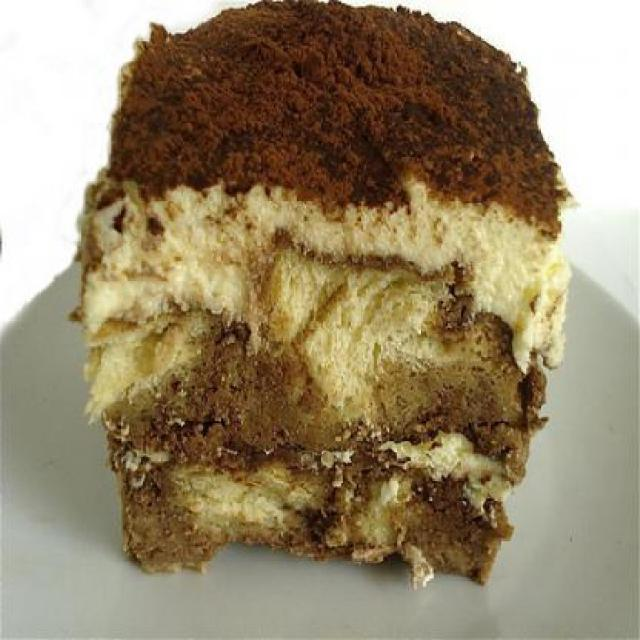Tiramisu: (73, 2, 559, 580)
